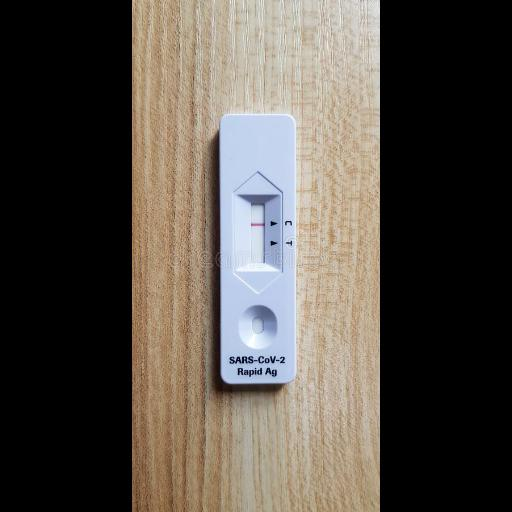Neg: (220, 112, 292, 382)
